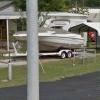Boat: (8, 23, 88, 60)
